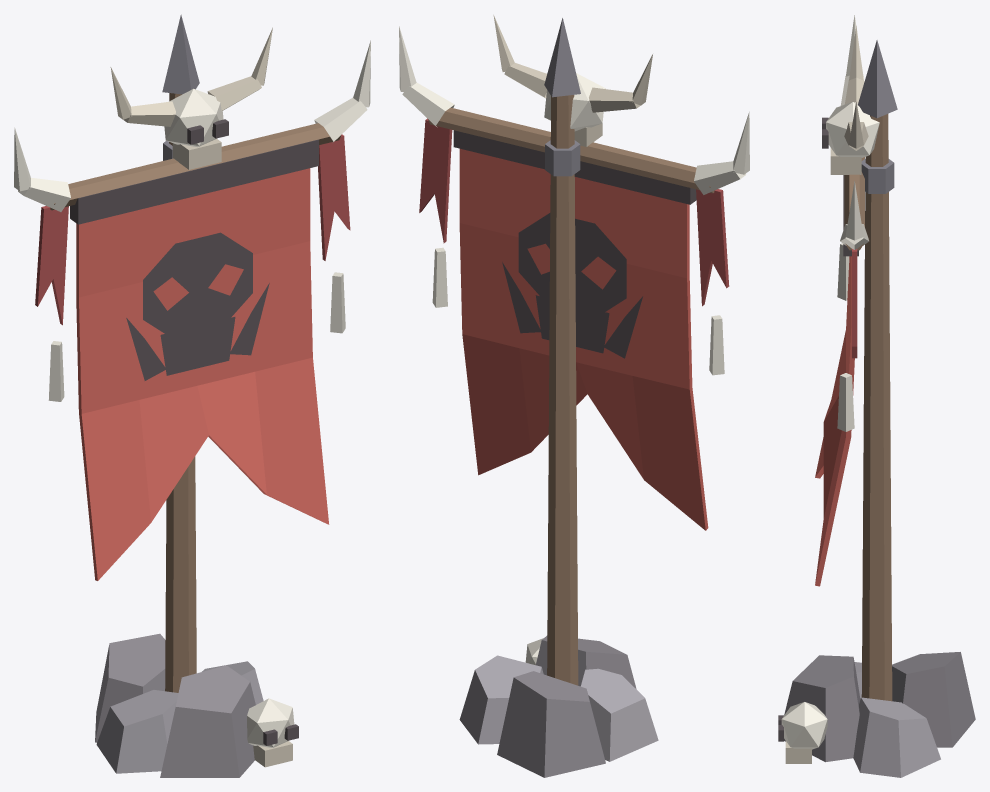
Rendered from prop_horde_warbanner_sig.glb.
The picture shows the model from 3 angles, left to right: view 1: azimuth 30°, elevation 25°; view 2: azimuth 150°, elevation 25°; view 3: azimuth 270°, elevation 25°; orthographic projection. The views are drawn at different scales.
Parts seen in each view (by area): view 1: prop_horde_warbanner_sig; view 2: prop_horde_warbanner_sig; view 3: prop_horde_warbanner_sig.
Boxes of the visible parts, <box> form: prop_horde_warbanner_sig: <box>14,14,370,777</box>; prop_horde_warbanner_sig: <box>399,15,749,777</box>; prop_horde_warbanner_sig: <box>778,15,975,777</box>.
Bounding box in the file's own units: 2.28 × 4.45 × 1.15.
